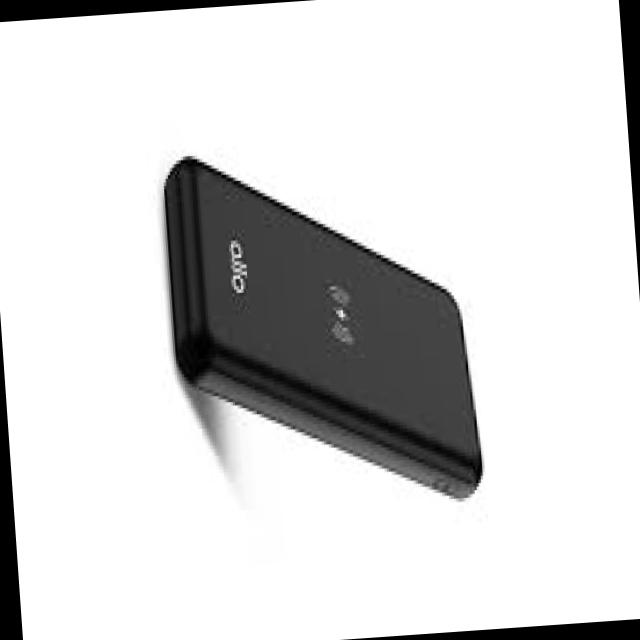power_bank: (149, 121, 487, 524)
